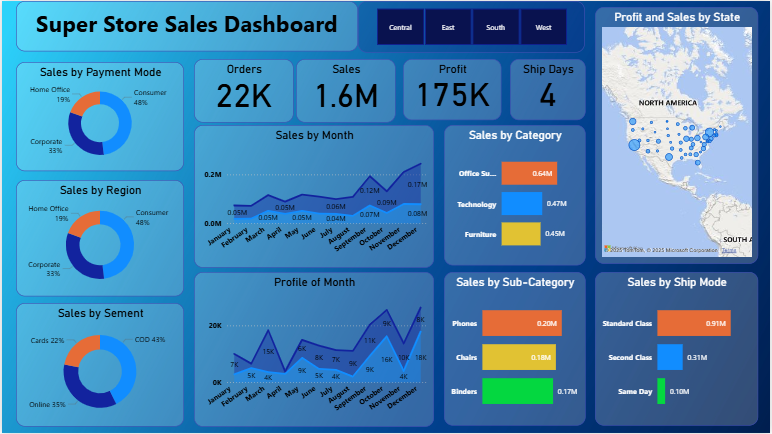

This screenshot's page, from the dashboard's own definition file:
{"tool":"powerbi","page":{"name":"Page 1","canvas":[1280,720],"ordinal":0},"visuals":[{"type":"clusteredBarChart","title":"Sales by Category","fields":{"Category":["SuperStore_Sales_Dataset.Category"],"Y":["Sum(SuperStore_Sales_Dataset.Sales)"]},"box":[736,206,236,234],"z":0},{"type":"clusteredBarChart","title":"Sales by Sub-Category","fields":{"Category":["SuperStore_Sales_Dataset.Sub-Category"],"Y":["Sum(SuperStore_Sales_Dataset.Sales)"]},"box":[736,452,236,256],"z":1000},{"type":"clusteredBarChart","title":"Sales by Ship Mode","fields":{"Y":["Sum(SuperStore_Sales_Dataset.Sales)"],"Category":["SuperStore_Sales_Dataset.Ship Mode"]},"box":[988,452,272,256],"z":2000},{"type":"stackedAreaChart","title":"Profile of Month","fields":{"Category":["SuperStore_Sales_Dataset.Order Date.Variation.Date Hierarchy.Month"],"Series":["SuperStore_Sales_Dataset.Order Date.Variation.Date Hierarchy.Year"],"Y":["Sum(SuperStore_Sales_Dataset.Profit)"]},"box":[320,452,400,258],"z":3000},{"type":"stackedAreaChart","title":"Sales by Month","fields":{"Category":["SuperStore_Sales_Dataset.Order Date.Variation.Date Hierarchy.Month"],"Y":["Sum(SuperStore_Sales_Dataset.Sales)"],"Series":["SuperStore_Sales_Dataset.Order Date.Variation.Date Hierarchy.Year"]},"box":[320,206,400,238],"z":4000},{"type":"map","title":"Profit and Sales by State","fields":{"Category":["SuperStore_Sales_Dataset.State"],"Size":["Sum(SuperStore_Sales_Dataset.Sales)"]},"box":[988,10,272,428],"z":5000},{"type":"slicer","fields":{"Values":["SuperStore_Sales_Dataset.Region"]},"box":[594,0,378,86],"z":6000},{"type":"donutChart","title":"Sales by Sement","fields":{"Y":["Sum(SuperStore_Sales_Dataset.Sales)"],"Category":["SuperStore_Sales_Dataset.Payment Mode"]},"box":[24,504,280,206],"z":7000},{"type":"donutChart","title":"Sales by Region","fields":{"Category":["SuperStore_Sales_Dataset.Segment"],"Y":["Sum(SuperStore_Sales_Dataset.Sales)"]},"box":[24,298,280,194],"z":8000},{"type":"textbox","box":[24,0,570,84],"z":9000},{"type":"card","title":"Ship Days","fields":{"Values":["Avg(SuperStore_Sales_Dataset.AvgDelivery)"]},"box":[846,96,126,102],"z":10000},{"type":"card","title":"Sales","fields":{"Values":["Sum(SuperStore_Sales_Dataset.Sales)"]},"box":[490,96,166,106],"z":11000},{"type":"card","title":"Orders","fields":{"Values":["Sum(SuperStore_Sales_Dataset.Quantity)"]},"box":[320,96,166,106],"z":12000},{"type":"card","title":"Profit","fields":{"Values":["Sum(SuperStore_Sales_Dataset.Profit)"]},"box":[668,96,164,102],"z":13000},{"type":"donutChart","title":"Sales by Payment Mode","fields":{"Category":["SuperStore_Sales_Dataset.Segment"],"Y":["Sum(SuperStore_Sales_Dataset.Sales)"]},"box":[24,102,280,182],"z":13001}]}

Visuals, with their boxes in screenshot pixels (x1, y1, x2, y2), scaled from the page's 1280x720 canvas onto the 772x434 screenshot:
"Sales by Category" clusteredBarChart: BBox(444, 124, 586, 265)
"Sales by Sub-Category" clusteredBarChart: BBox(444, 272, 586, 427)
"Sales by Ship Mode" clusteredBarChart: BBox(596, 272, 760, 427)
"Profile of Month" stackedAreaChart: BBox(193, 272, 434, 428)
"Sales by Month" stackedAreaChart: BBox(193, 124, 434, 268)
"Profit and Sales by State" map: BBox(596, 6, 760, 264)
slicer - SuperStore_Sales_Dataset.Region: BBox(358, 0, 586, 52)
"Sales by Sement" donutChart: BBox(14, 304, 183, 428)
"Sales by Region" donutChart: BBox(14, 180, 183, 297)
textbox: BBox(14, 0, 358, 51)
"Ship Days" card: BBox(510, 58, 586, 119)
"Sales" card: BBox(296, 58, 396, 122)
"Orders" card: BBox(193, 58, 293, 122)
"Profit" card: BBox(403, 58, 502, 119)
"Sales by Payment Mode" donutChart: BBox(14, 61, 183, 171)
